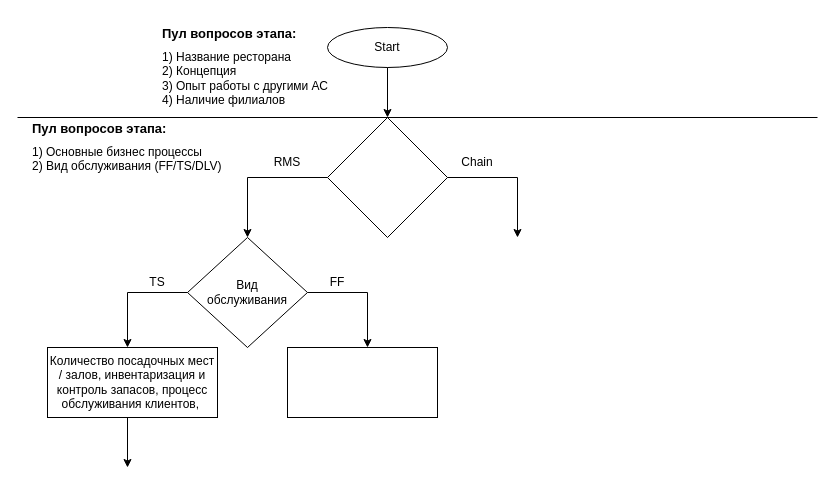
Some shapes in this 836 by 493 pixel diagram are drawn without their labels. The centre of each missing label's shape, as x and y in pixels:
"Инвентаризация и контроль запасов," belongs at (362,382).
"Одна точка / сеть?" belongs at (387,177).
